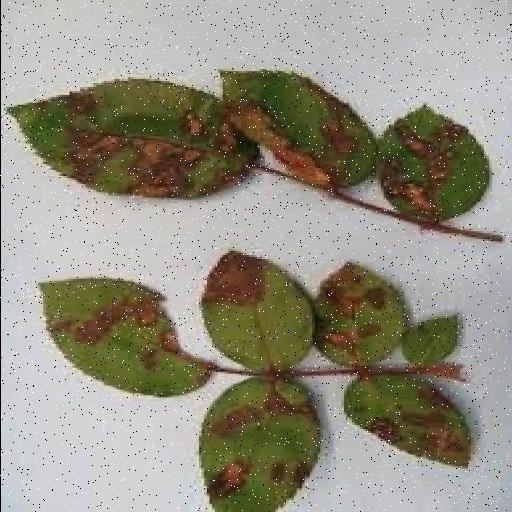downy_mildew: (8, 80, 256, 197), (40, 279, 208, 397), (222, 72, 374, 185), (198, 380, 319, 511), (201, 252, 311, 369), (378, 107, 488, 221), (344, 376, 469, 466), (315, 263, 406, 365), (402, 317, 459, 365)
